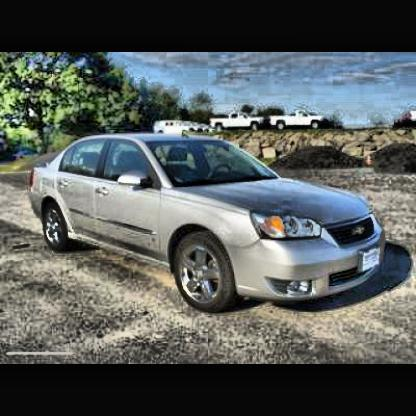Chevrolet Malibu Sedan 2007: (33, 138, 388, 307)
